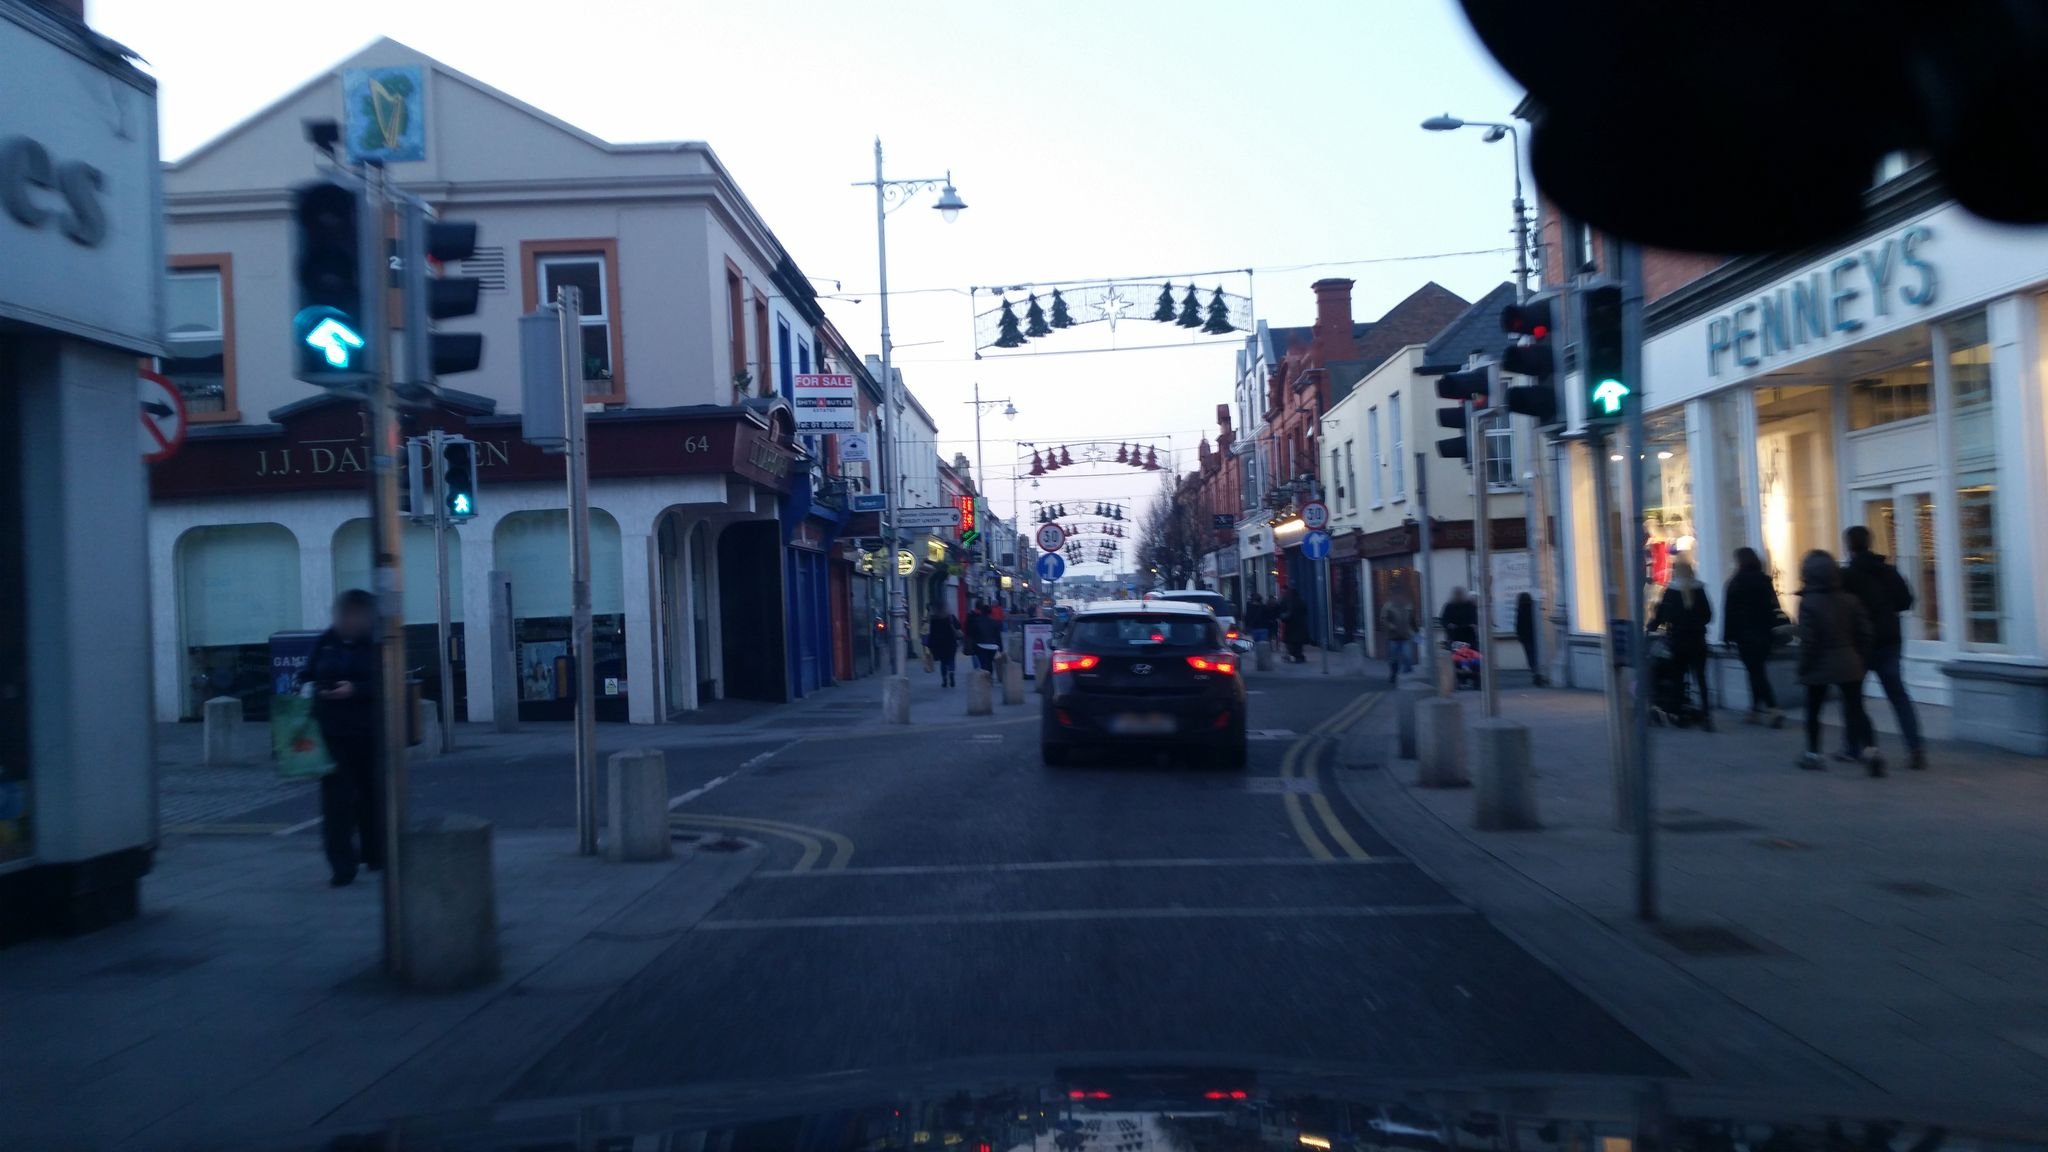property sign: (778, 340, 881, 444)
